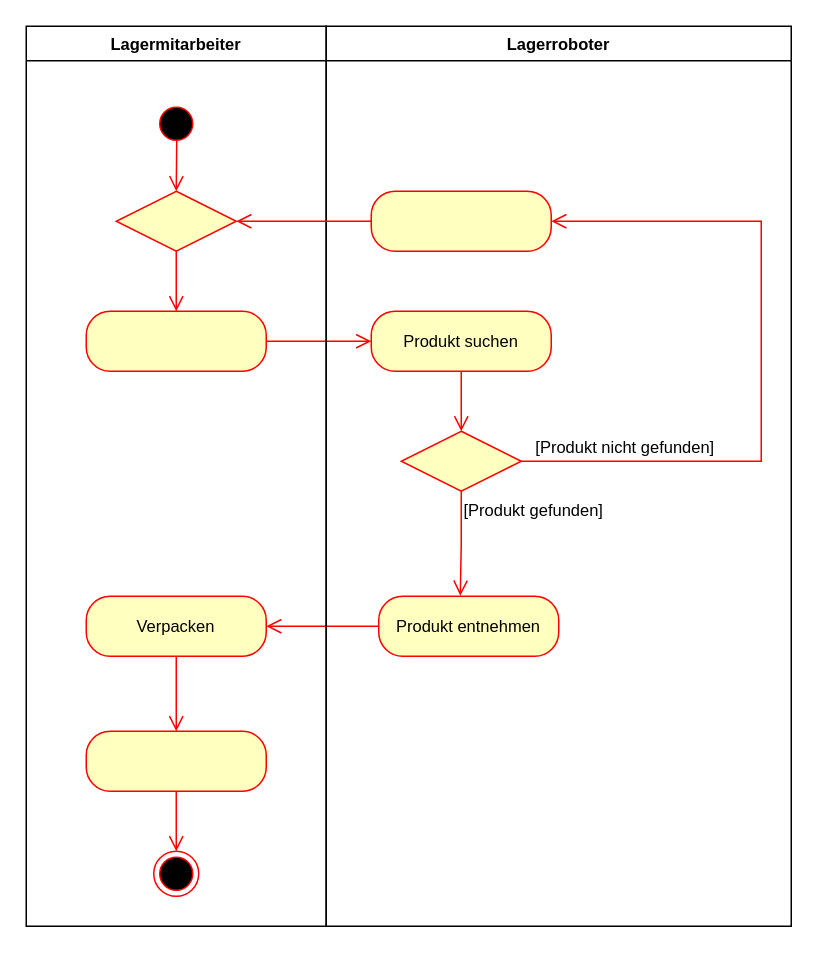
The diagram is 818 pixels wide and 953 high, and some of its shapes have lost their labels. Here are the shapes that lost their labels. From the top down, the box of each, then its label:
(370, 190, 551, 251): Fehlermeldung ausgeben
(85, 310, 266, 371): Produktanfrage
(85, 730, 266, 791): Versand vorbereiten
